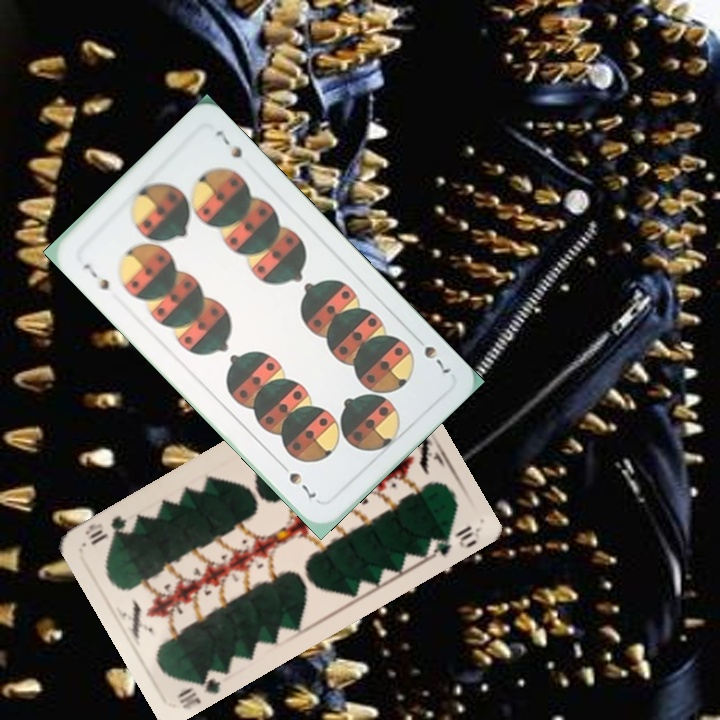G10: (172, 665, 224, 712)
S7: (419, 341, 454, 377), (78, 259, 112, 293)
